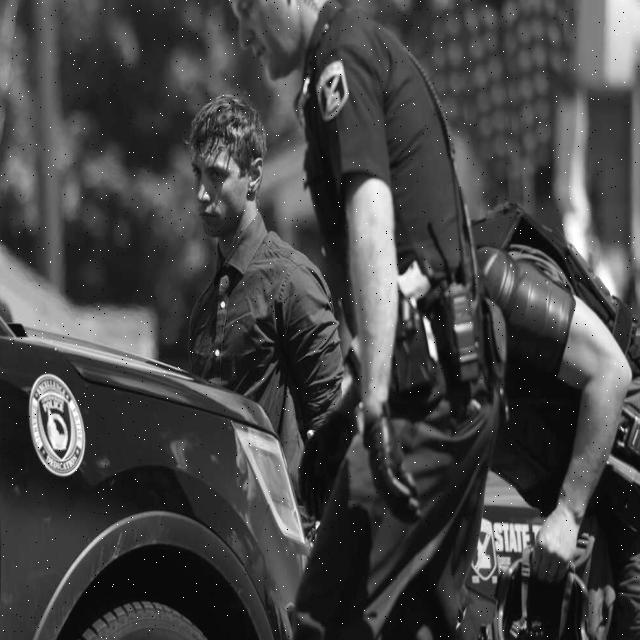police: (210, 0, 481, 640)
